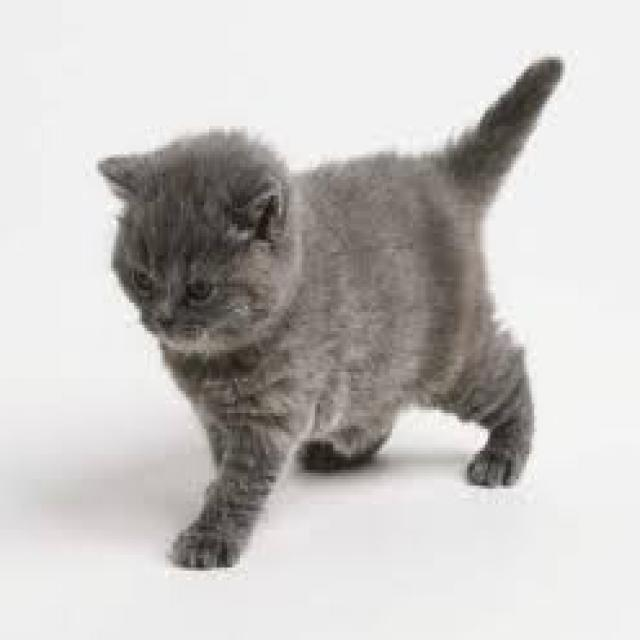Cat: (90, 53, 572, 579)
